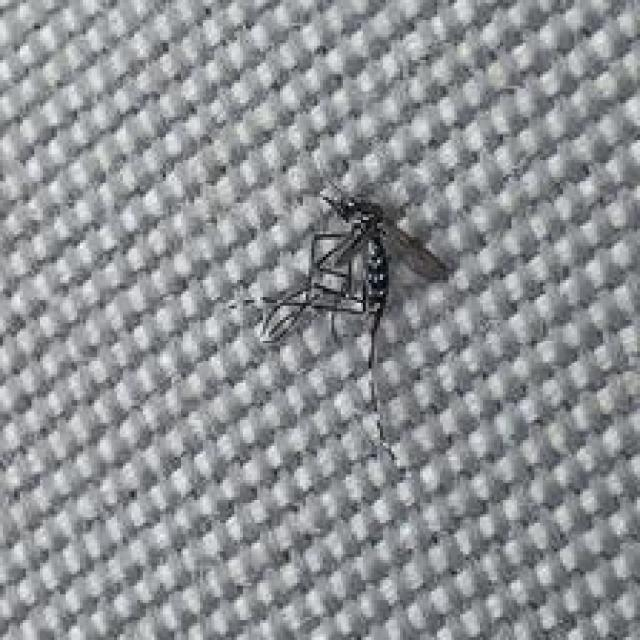Aedes albopictus: (247, 182, 456, 462)
